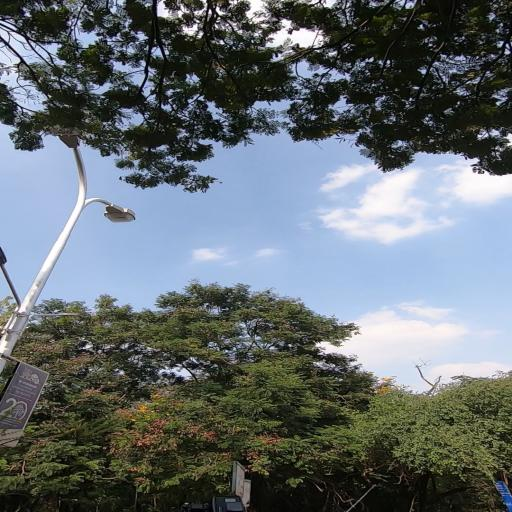Street_light: (98, 194, 138, 228)
